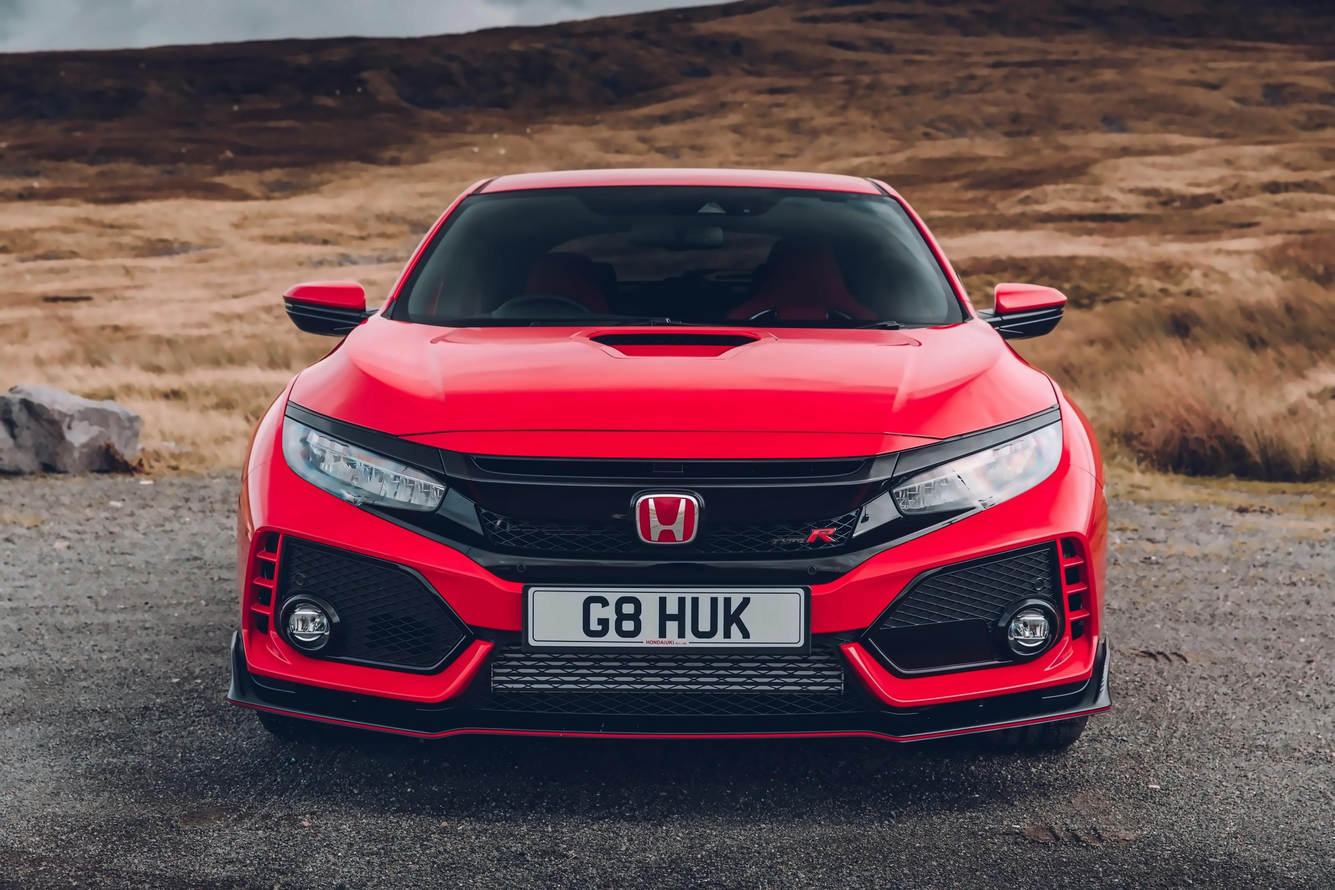Car hood: (282, 315, 1061, 460)
Fender - -F-L-: (1043, 384, 1106, 509)
Fender - -F-R-: (235, 371, 304, 480)
Front bumper: (231, 449, 1112, 750)
Headlight - -L-: (890, 400, 1062, 526)
Headlight - -R-: (264, 405, 445, 522)
Side mirror - -L-: (989, 275, 1069, 341)
Side mirror - -R-: (280, 282, 375, 343)
